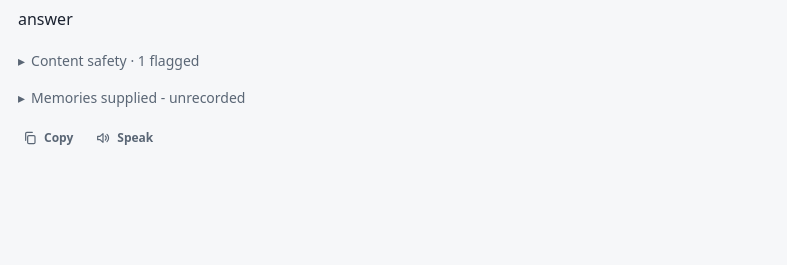
MessageList content-safety panel › distinguishes the prompt from the reply
What coordinates should you click on to do the following:
click the heading "Content safety · 1 flagged"
I would click on:
 (115, 61)
Its box is [31, 51, 199, 70].
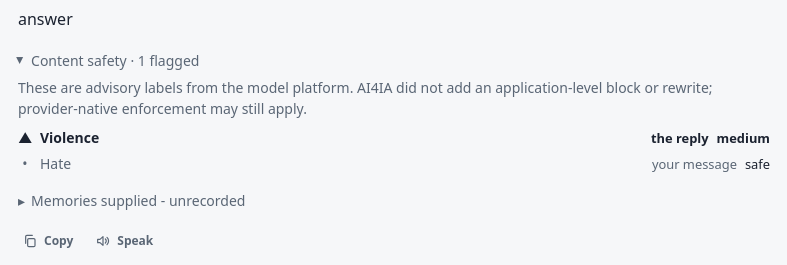
expect the text "your message" is shown: met, box [652, 155, 737, 174]
expect the text "the reply" is shown: met, box [651, 129, 709, 149]
